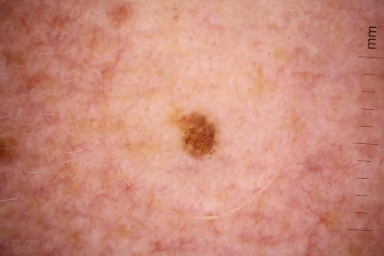melanoma: (178, 111, 215, 158)
